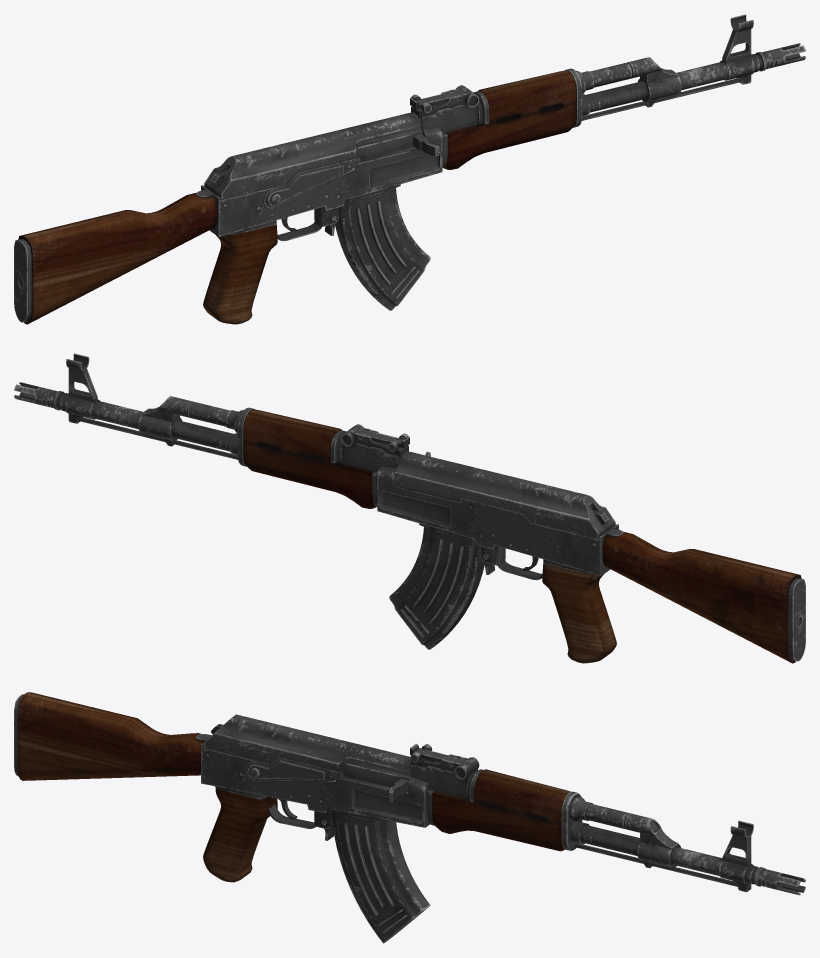
3 views of the same model, one above another, from view 1: azimuth 30°, elevation 25°; view 2: azimuth 150°, elevation 25°; view 3: azimuth 330°, elevation 25° (orthographic).
Visible parts, largest first — view 1: AK_Buttstock_lp, AK_Chassis02_lp, AK_Magazine_lp, AK_Chassis01_lp, AK_TriggerHandle_lp, AK_Barrel01_lp, AK_WoodHandle_lp, AK_WoodHandle02_lp, AK_Plate_lp, AK_Barrel03_lp, AK_Sights_04_lp, AK_Barrel02_lp (+1 smaller); view 2: AK_Buttstock_lp, AK_Chassis02_lp, AK_Chassis01_lp, AK_Magazine_lp, AK_TriggerHandle_lp, AK_Barrel01_lp, AK_WoodHandle_lp, AK_WoodHandle02_lp, AK_Barrel03_lp, AK_Sights_04_lp, AK_Barrel02_lp, AK_WoodHandle03_lp; view 3: AK_Buttstock_lp, AK_Chassis02_lp, AK_Magazine_lp, AK_Chassis01_lp, AK_Barrel01_lp, AK_TriggerHandle_lp, AK_WoodHandle_lp, AK_WoodHandle02_lp, AK_Barrel03_lp, AK_Plate_lp, AK_Sights_04_lp, AK_Barrel02_lp (+1 smaller).
Boxes of the visible parts, x1=… form: AK_Buttstock_lp: x1=14, y1=192, x2=217, y2=324; AK_Chassis02_lp: x1=196, y1=126, x2=442, y2=236; AK_Magazine_lp: x1=335, y1=188, x2=430, y2=310; AK_Chassis01_lp: x1=204, y1=112, x2=421, y2=199; AK_TriggerHandle_lp: x1=203, y1=207, x2=338, y2=324; AK_Barrel01_lp: x1=576, y1=43, x2=805, y2=120; AK_WoodHandle_lp: x1=410, y1=89, x2=576, y2=169; AK_WoodHandle02_lp: x1=473, y1=70, x2=576, y2=124; AK_Plate_lp: x1=263, y1=157, x2=360, y2=208; AK_Barrel03_lp: x1=627, y1=57, x2=681, y2=107; AK_Sights_04_lp: x1=420, y1=99, x2=477, y2=133; AK_Barrel02_lp: x1=722, y1=14, x2=753, y2=84; AK_Buttstock_lp: x1=602, y1=531, x2=805, y2=663; AK_Chassis02_lp: x1=377, y1=466, x2=623, y2=575; AK_Chassis01_lp: x1=394, y1=451, x2=615, y2=538; AK_Magazine_lp: x1=389, y1=527, x2=484, y2=649; AK_TriggerHandle_lp: x1=481, y1=546, x2=616, y2=663; AK_Barrel01_lp: x1=14, y1=382, x2=243, y2=459; AK_WoodHandle_lp: x1=243, y1=428, x2=409, y2=508; AK_WoodHandle02_lp: x1=243, y1=409, x2=346, y2=463; AK_Barrel03_lp: x1=138, y1=396, x2=192, y2=446; AK_Sights_04_lp: x1=342, y1=438, x2=399, y2=472; AK_Barrel02_lp: x1=66, y1=353, x2=97, y2=423; AK_WoodHandle03_lp: x1=237, y1=407, x2=377, y2=506; AK_Buttstock_lp: x1=14, y1=692, x2=203, y2=780; AK_Chassis02_lp: x1=196, y1=734, x2=429, y2=827; AK_Magazine_lp: x1=331, y1=809, x2=430, y2=943; AK_Chassis01_lp: x1=204, y1=714, x2=411, y2=772; AK_Barrel01_lp: x1=569, y1=796, x2=805, y2=895; AK_TriggerHandle_lp: x1=203, y1=787, x2=331, y2=882; AK_WoodHandle_lp: x1=410, y1=743, x2=565, y2=851; AK_WoodHandle02_lp: x1=466, y1=769, x2=570, y2=823; AK_Barrel03_lp: x1=625, y1=813, x2=680, y2=868; AK_Plate_lp: x1=246, y1=757, x2=342, y2=782; AK_Sights_04_lp: x1=411, y1=760, x2=477, y2=798; AK_Barrel02_lp: x1=722, y1=820, x2=753, y2=892.
Bounding box in the file's own units: 0.8796 × 0.218 × 0.062.
Materials: 1 (1 with a texture image).
